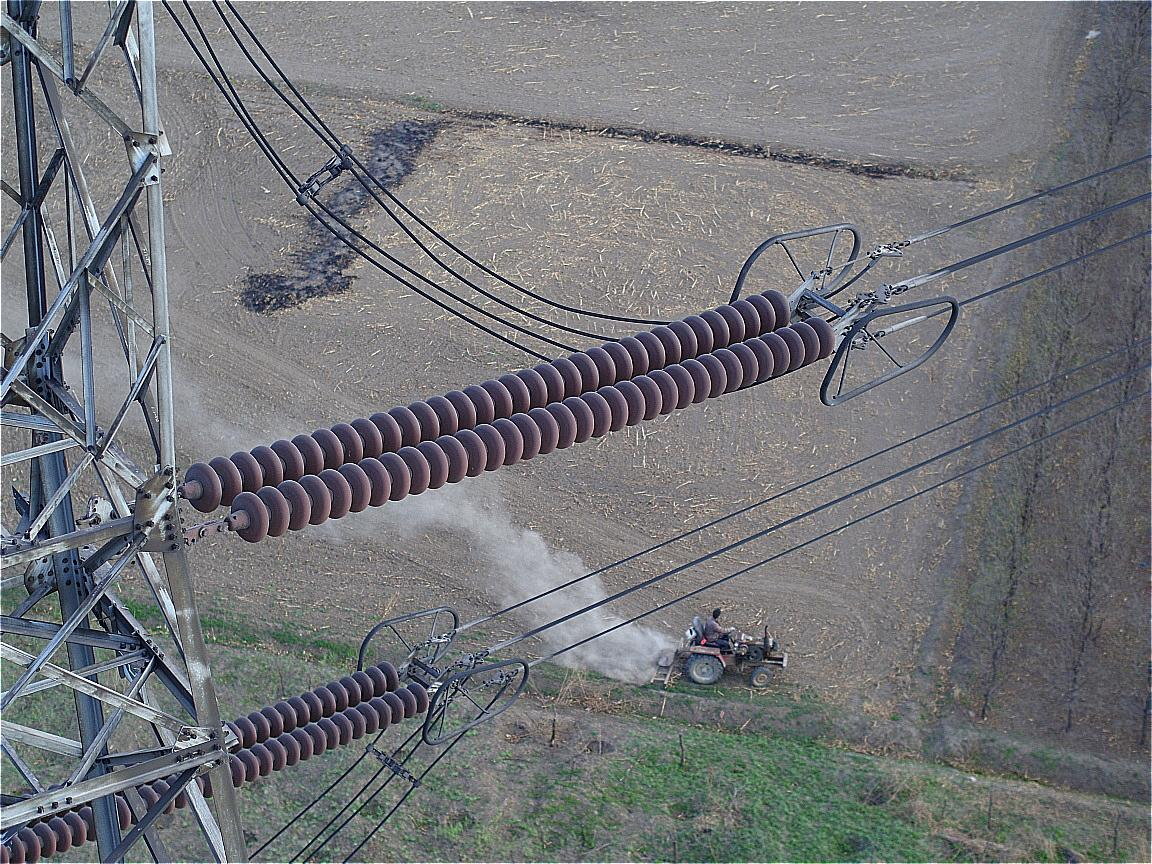insultor1: (186, 288, 836, 543)
